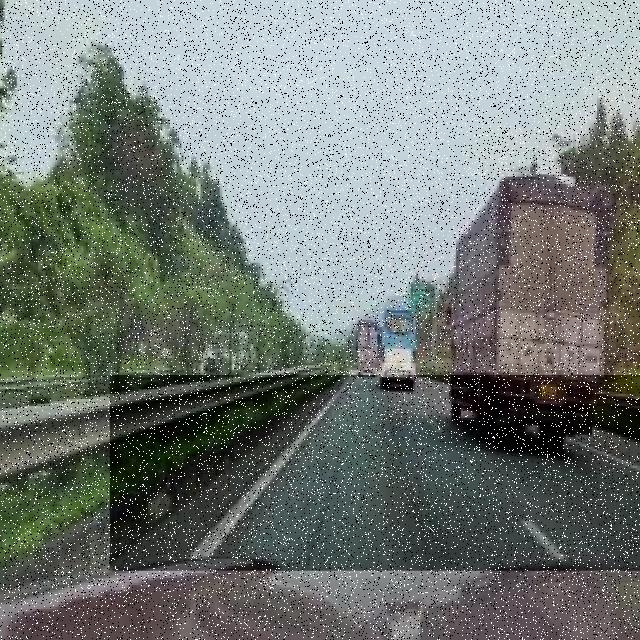clear-road: (112, 377, 640, 571)
